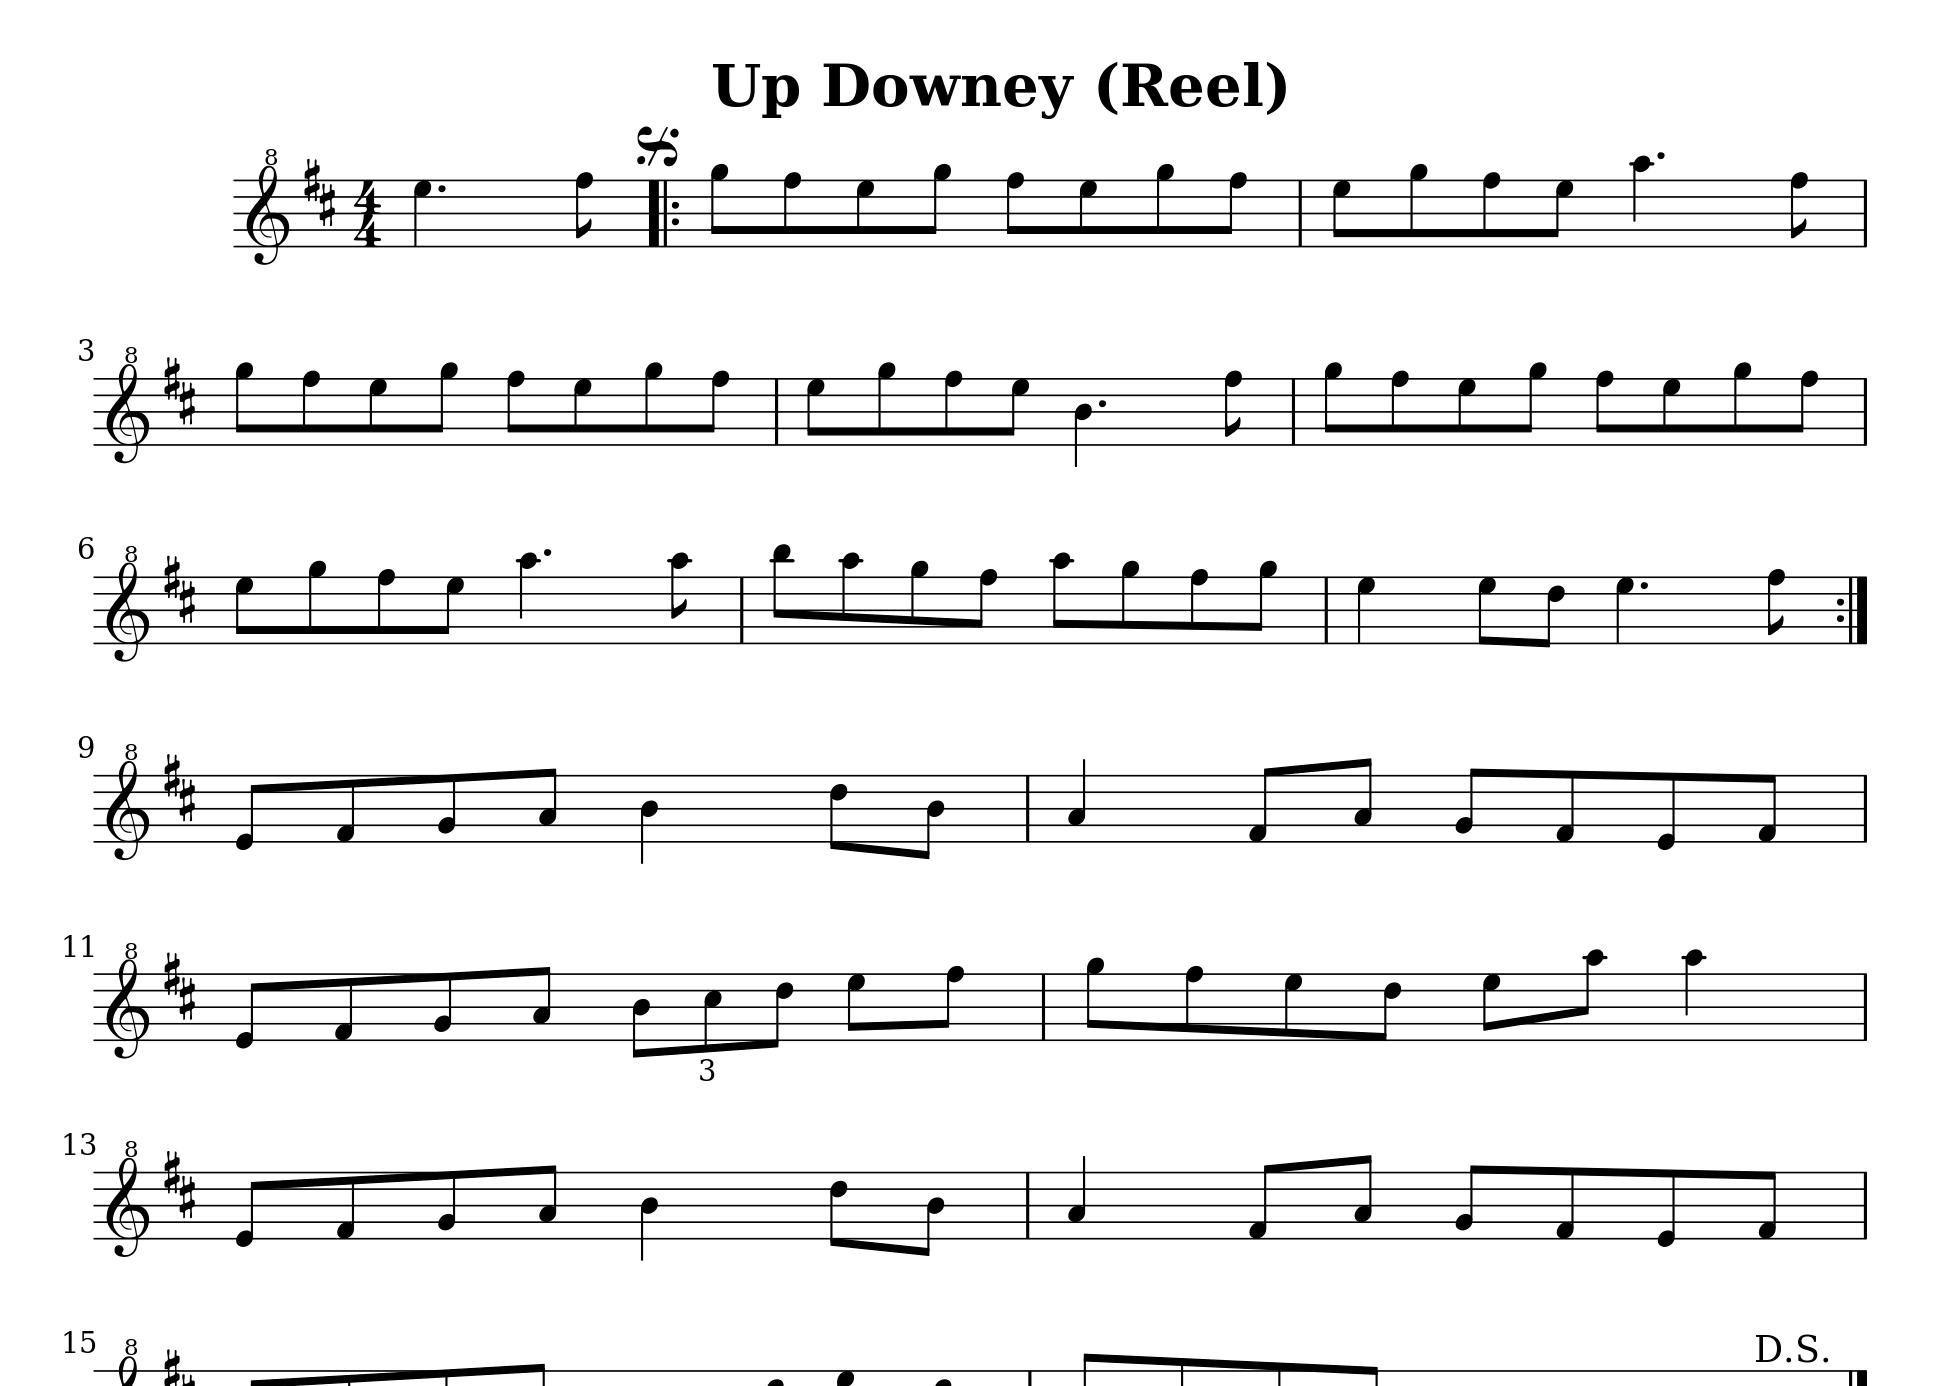1: (79, 931, 96, 961), (61, 931, 76, 960), (61, 1129, 76, 1156), (61, 1327, 76, 1354)
3: (76, 334, 94, 363), (697, 1057, 717, 1083), (79, 1129, 97, 1156)
4: (349, 211, 385, 246), (351, 178, 384, 213)
4_10: (1681, 946, 1707, 1042), (516, 550, 540, 646), (1630, 153, 1653, 249)
4_3: (1066, 757, 1089, 844), (1066, 1153, 1089, 1240)
4_4: (637, 771, 660, 865), (637, 1168, 660, 1261), (1072, 376, 1093, 469)
4_7: (1356, 574, 1378, 646), (1614, 574, 1636, 646), (412, 178, 433, 247)
5: (79, 1327, 96, 1354)
6: (76, 534, 94, 561)
8_0: (234, 970, 262, 1050), (234, 1168, 262, 1248), (234, 772, 262, 850), (1654, 769, 1678, 852), (1654, 1167, 1678, 1248)
8_1: (1246, 763, 1278, 844), (1246, 1161, 1278, 1240), (1552, 768, 1578, 844), (1552, 1165, 1578, 1240), (1755, 1168, 1779, 1242), (1755, 772, 1779, 844), (331, 970, 355, 1042), (334, 772, 357, 844), (334, 1168, 357, 1240)
8_10: (1575, 946, 1606, 1042), (667, 550, 691, 646), (838, 550, 862, 646), (1051, 550, 1074, 645)
8_11: (769, 541, 795, 646)
8_2: (1455, 766, 1485, 844), (1455, 1162, 1485, 1240), (436, 772, 457, 844), (433, 970, 454, 1042), (436, 1168, 457, 1240)
8_3: (535, 1162, 559, 1242), (535, 766, 559, 844), (1353, 756, 1374, 844), (1353, 1152, 1374, 1240), (531, 964, 553, 1042)
8_4: (916, 772, 946, 861), (916, 1168, 946, 1257), (630, 970, 652, 1059)
8_5: (702, 970, 723, 1053)
8_6: (763, 970, 796, 1048), (1537, 573, 1566, 649), (1374, 970, 1404, 1042), (828, 771, 850, 852), (828, 1168, 850, 1249)
8_7: (1545, 178, 1575, 249), (1002, 376, 1030, 447), (436, 574, 465, 645), (844, 970, 868, 1042), (1455, 376, 1477, 448), (1476, 574, 1498, 646), (1282, 970, 1305, 1042), (1480, 970, 1503, 1042), (853, 178, 876, 249), (1077, 178, 1099, 249), (1660, 376, 1683, 447), (232, 574, 255, 645), (1332, 178, 1353, 249), (367, 376, 388, 447), (571, 376, 592, 447), (805, 376, 826, 447)
8_8: (1788, 367, 1821, 448), (699, 367, 730, 448), (967, 565, 999, 646), (1218, 169, 1248, 249), (934, 963, 964, 1042), (1593, 367, 1617, 448), (1480, 169, 1503, 250), (1788, 169, 1810, 250), (298, 367, 321, 448), (1222, 367, 1245, 448), (1188, 565, 1210, 646), (504, 369, 526, 448), (942, 369, 964, 448), (1765, 567, 1788, 646), (1183, 963, 1206, 1042), (781, 169, 802, 250), (1005, 169, 1026, 250), (1389, 367, 1410, 448), (574, 169, 595, 249), (375, 567, 396, 646)
8_9: (1246, 558, 1278, 645), (922, 162, 952, 249), (1518, 361, 1548, 448), (429, 361, 459, 447), (1731, 360, 1755, 448), (1119, 558, 1141, 646), (642, 360, 664, 447), (1084, 955, 1107, 1042), (709, 162, 730, 250), (876, 360, 897, 448), (1323, 360, 1344, 448), (1155, 162, 1176, 249), (1408, 162, 1429, 249), (234, 360, 255, 447), (909, 558, 930, 645), (306, 559, 327, 645)
9: (76, 732, 94, 760)
DS: (1752, 1330, 1831, 1363)
D_S: (301, 154, 337, 229), (160, 355, 198, 427), (160, 949, 198, 1021), (160, 751, 196, 823), (160, 1147, 196, 1219), (162, 553, 196, 624)
High_Gclef: (244, 147, 289, 265), (105, 1137, 148, 1258), (105, 345, 148, 465), (105, 543, 148, 663), (105, 742, 148, 862), (105, 940, 148, 1060)
LeftRepeatSign: (646, 178, 679, 247)
RightRepeatSign: (1834, 574, 1872, 643)
Segno: (633, 121, 682, 166)
Single_barline: (766, 378, 787, 444), (1291, 178, 1311, 246), (1317, 576, 1336, 642), (1857, 774, 1875, 841), (1285, 378, 1303, 444), (1857, 378, 1875, 444), (1020, 775, 1038, 841), (1035, 973, 1053, 1039), (1020, 1171, 1038, 1237), (1857, 1171, 1875, 1237), (733, 577, 751, 642), (1857, 972, 1873, 1039), (1857, 178, 1873, 244)
TimeSig: (352, 178, 384, 247)
dot: (1653, 148, 1668, 162), (435, 180, 448, 195), (1095, 396, 1110, 409), (1638, 577, 1651, 592), (540, 546, 553, 559)
